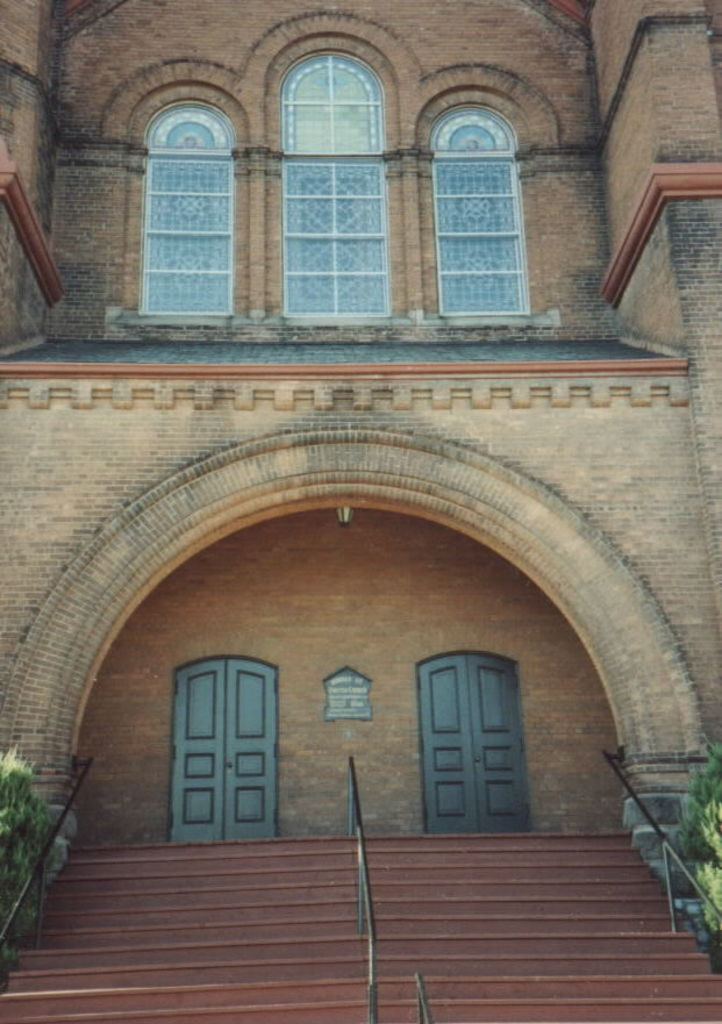door: (224, 653, 274, 838), (469, 668, 521, 823), (178, 664, 222, 839), (420, 668, 472, 814)
